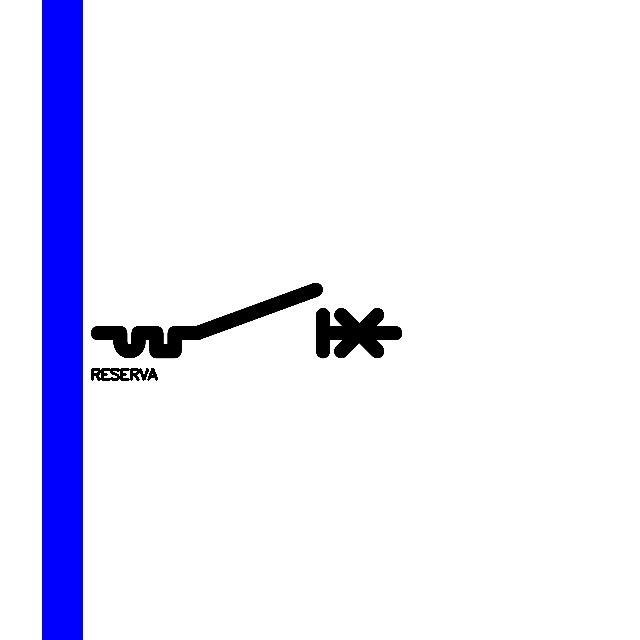interruptor_termomagnetico: (90, 282, 403, 359)
